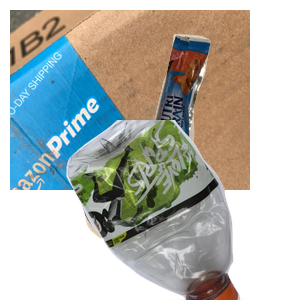cardboard: (10, 10, 250, 190)
glass: (77, 147, 295, 300)
plastic: (64, 120, 300, 300)
trash: (149, 31, 300, 179)
